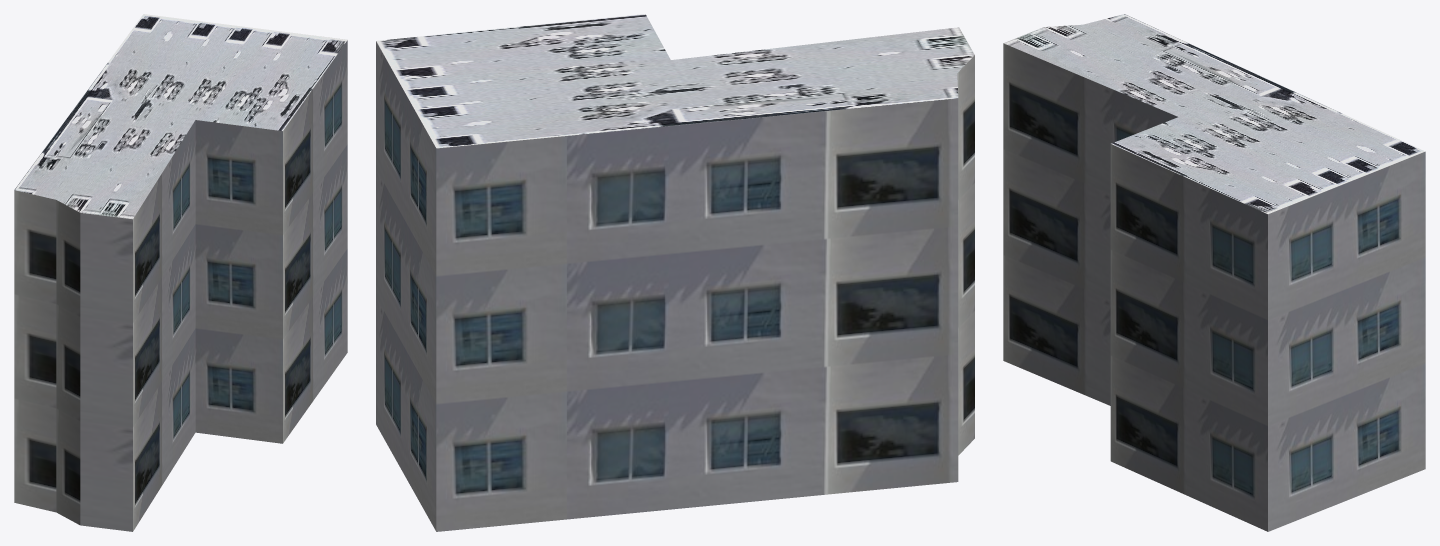
Rendered from ResTex__5324.fbx.
3 renders of one model, left to right at view 1: azimuth 30°, elevation 25°; view 2: azimuth 150°, elevation 25°; view 3: azimuth 270°, elevation 25°, orthographic. The views are drawn at different scales.
Parts seen in each view (by area): view 1: CityEngineMaterial_10_m, CityEngineMaterial_4_m; view 2: CityEngineMaterial_10_m, CityEngineMaterial_4_m; view 3: CityEngineMaterial_10_m, CityEngineMaterial_4_m.
Part boxes in pixels (x1,y1,x2,y2): CityEngineMaterial_10_m: (14, 40, 347, 531); CityEngineMaterial_4_m: (14, 14, 347, 219); CityEngineMaterial_10_m: (376, 41, 974, 531); CityEngineMaterial_4_m: (376, 14, 974, 148); CityEngineMaterial_10_m: (1003, 43, 1425, 531); CityEngineMaterial_4_m: (1004, 14, 1424, 214).
Size of the model in its own units: 12.18 by 9 by 10.84.
Materials: 2 (2 with a texture image).
